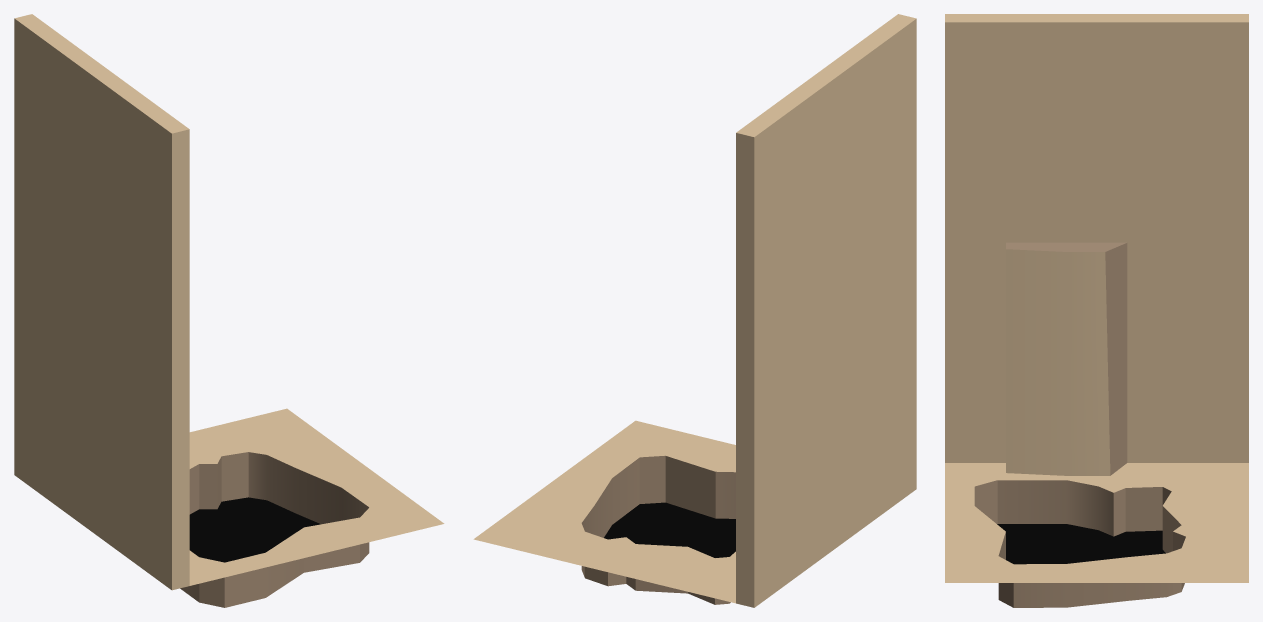
The model's file is WallPit.fbx.
The picture shows the model from 3 angles, left to right: view 1: azimuth 30°, elevation 25°; view 2: azimuth 150°, elevation 25°; view 3: azimuth 270°, elevation 25°; orthographic projection. The views are drawn at different scales.
Parts seen in each view (by area): view 1: WallPit; view 2: WallPit; view 3: WallPit.
Part boxes in pixels (box(x1,y1,x2,y2)): WallPit: box(14, 14, 444, 607); WallPit: box(473, 14, 916, 607); WallPit: box(945, 14, 1248, 607).
Size of the model in its own units: 5 by 8.79 by 5.
